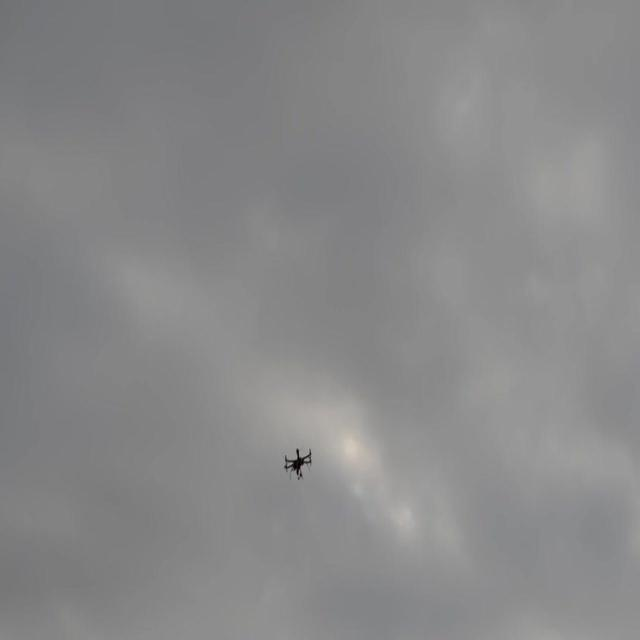drone: (282, 446, 312, 482)
